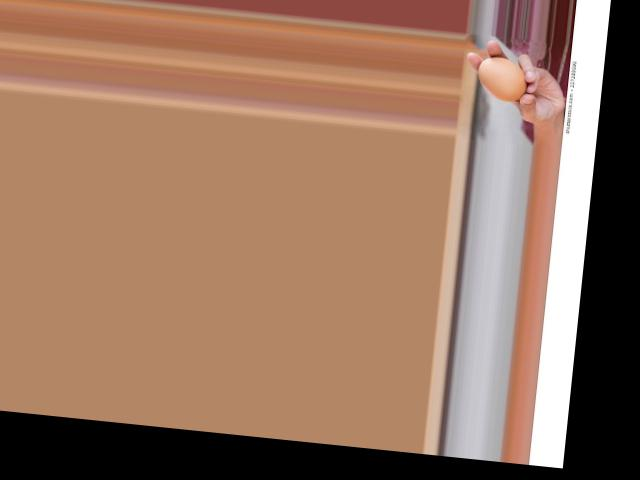egg: (475, 54, 529, 102)
